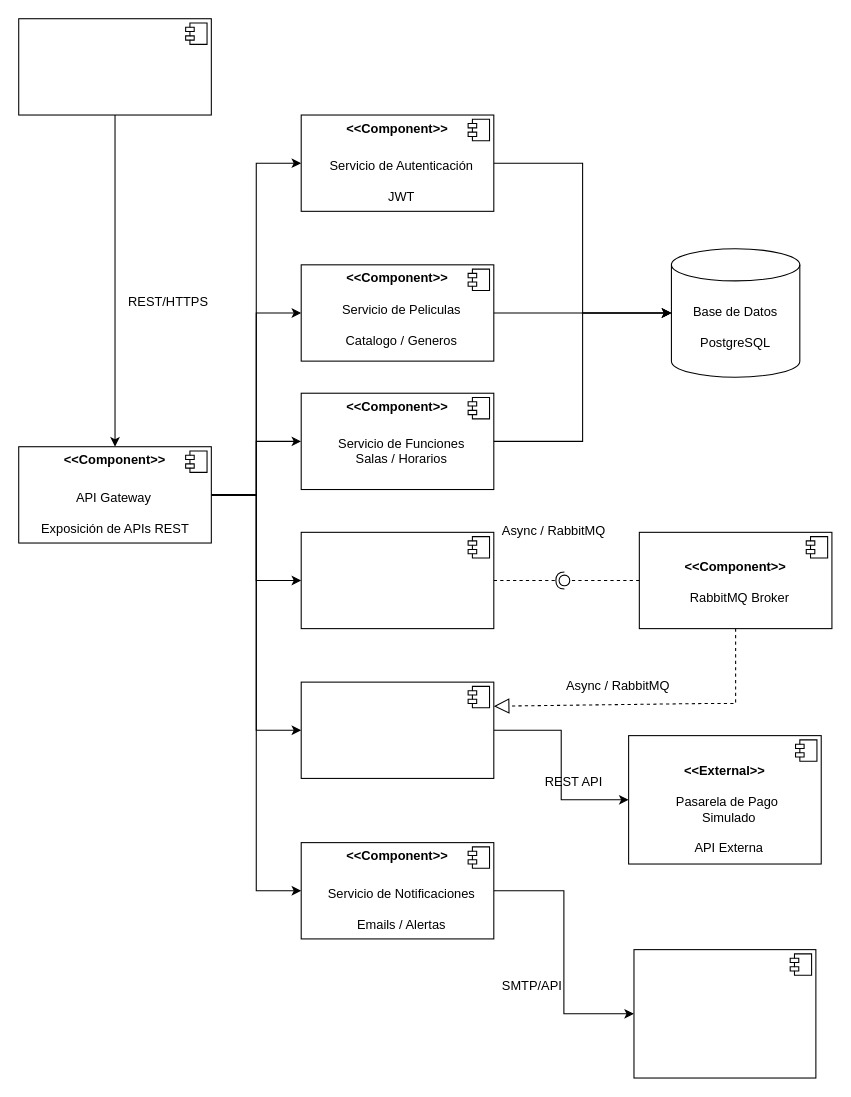
This 851x1097 diagram has some shape labels left out. The box of each missing label's shape, as (x1, y1, x2, y2) in pixels:
<<Component>> Frontend Web (React + Vite): (18, 18, 211, 115)
<<Component>> Servicio de Pagos Procesamiento: (300, 681, 494, 778)
<<Component>> Servicio de Reservas y Asientos Seleccion / Bloqueo: (300, 531, 494, 629)
<<External>> Proveedor de Email API Externa: (633, 949, 816, 1078)
